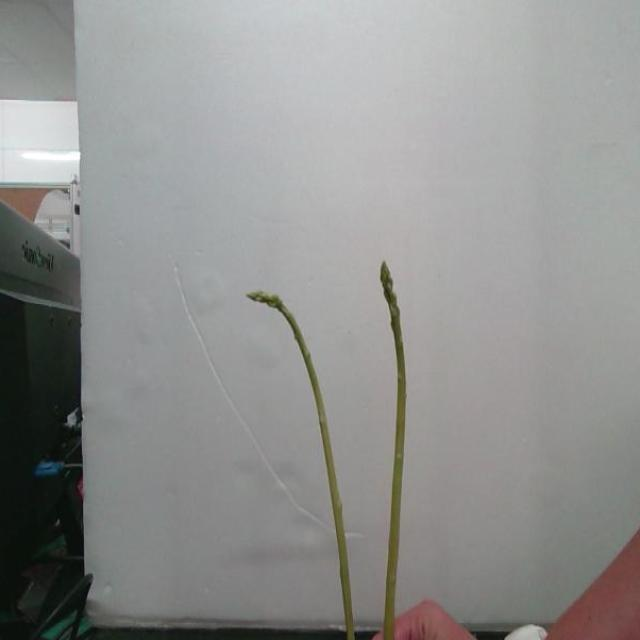aspargus: (246, 292, 357, 640), (382, 264, 406, 640)
